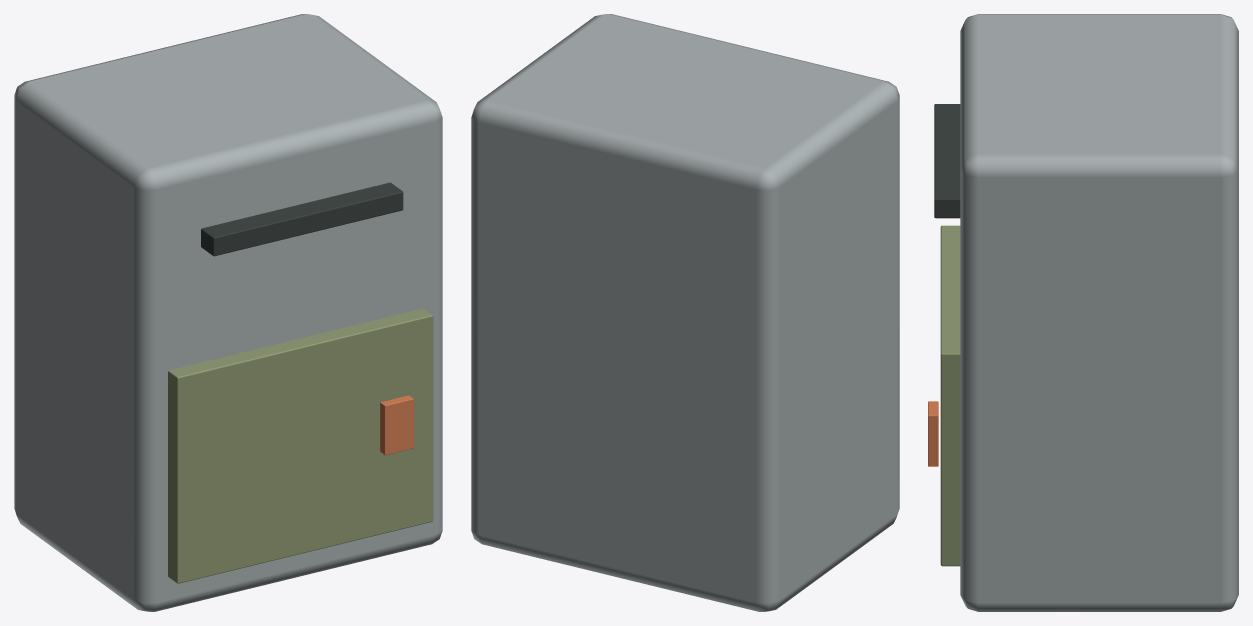
The model's file is extraction-routes-and-objectives-locked-dropbox-f340b10d__22161.glb.
3 renders of one model, left to right at view 1: azimuth 30°, elevation 25°; view 2: azimuth 150°, elevation 25°; view 3: azimuth 270°, elevation 25°, orthographic. The views are drawn at different scales.
Visible parts, largest first — view 1: locked-dropbox, door/canvas; view 2: locked-dropbox; view 3: locked-dropbox, door/canvas.
Boxes of the visible parts, x1,y1,x2,y2 form: locked-dropbox: (14,14,442,611); door/canvas: (168,308,433,583); locked-dropbox: (471,14,899,611); locked-dropbox: (928,14,1238,611); door/canvas: (940,225,960,566).
Size of the model in its own units: 0.42 by 0.58 by 0.357.
